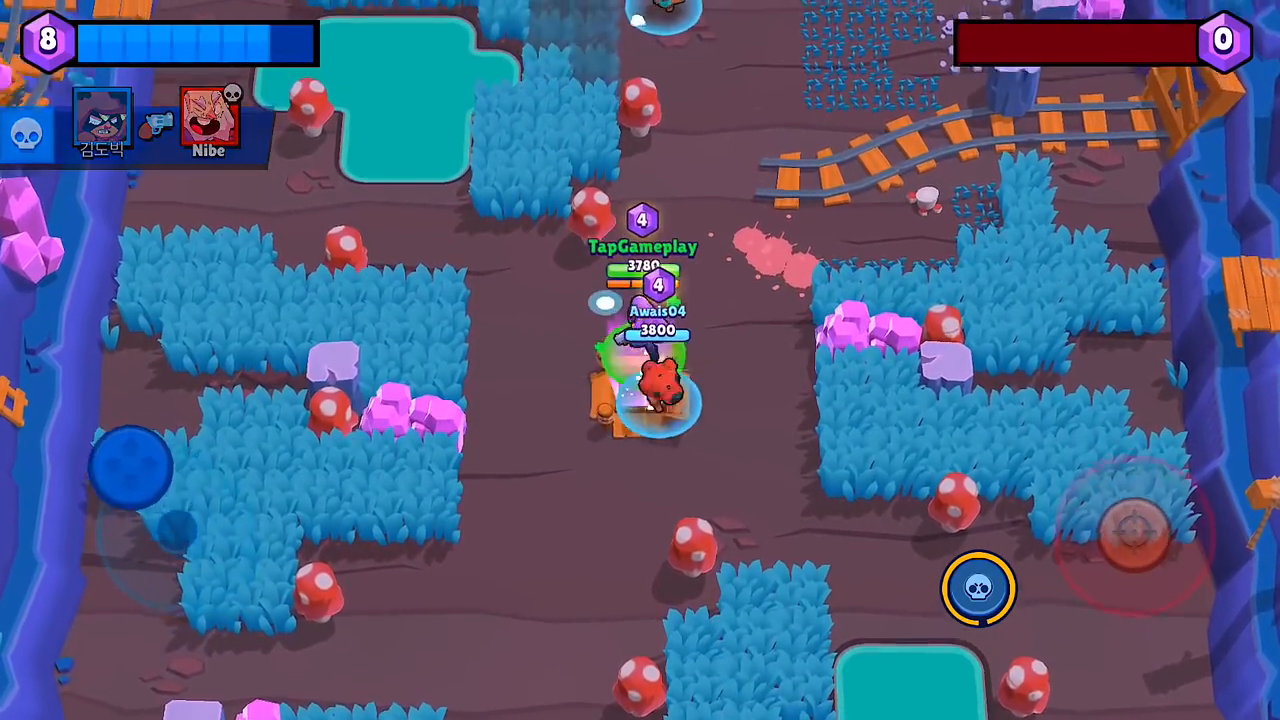move_stick: (88, 424, 183, 507)
